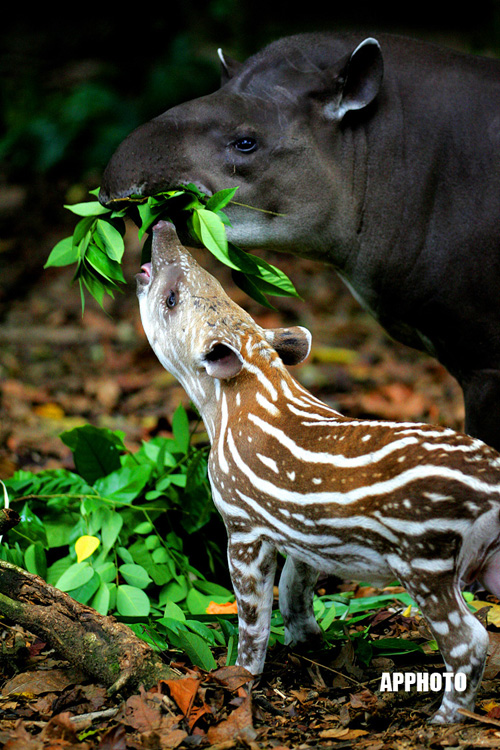Anta: (79, 213, 493, 735), (94, 23, 488, 374)
